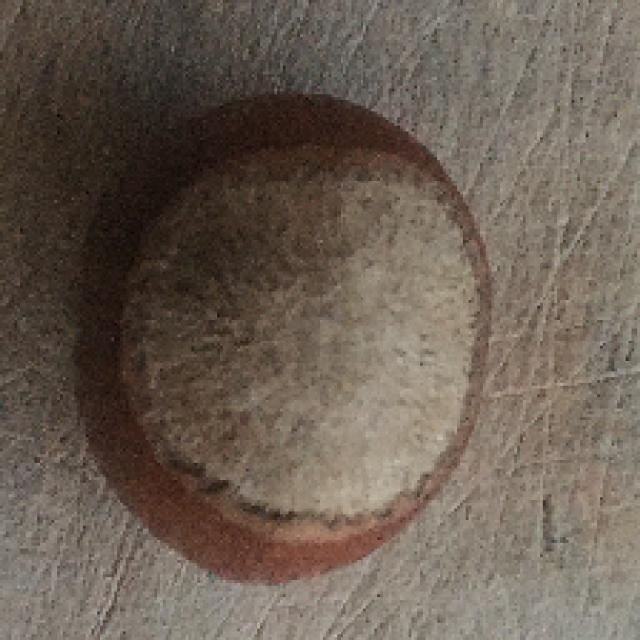qualityHazelnut: (81, 85, 493, 588)
